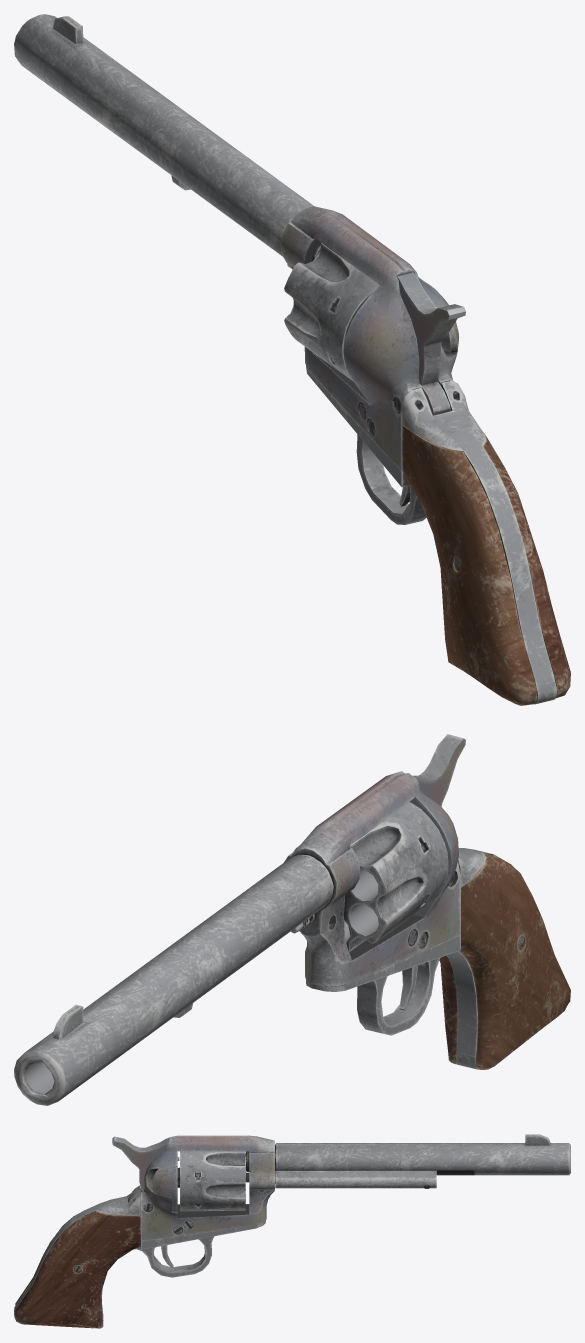
The model's file is colt_saa.glb.
3 renders of one model, top to bottom at view 1: azimuth 30°, elevation 25°; view 2: azimuth 150°, elevation 25°; view 3: azimuth 270°, elevation 25°, orthographic. The views are drawn at different scales.
Parts seen in each view (by area): view 1: Revolver; view 2: Revolver; view 3: Revolver.
Boxes of the visible parts, left/top/right/bottom form: Revolver: left=14, top=14, right=570, bottom=705; Revolver: left=14, top=734, right=570, bottom=1105; Revolver: left=14, top=1134, right=570, bottom=1328.
Bounding box in the file's own units: 0.0405 × 0.1231 × 0.3307.
1 material, 1 textured.
